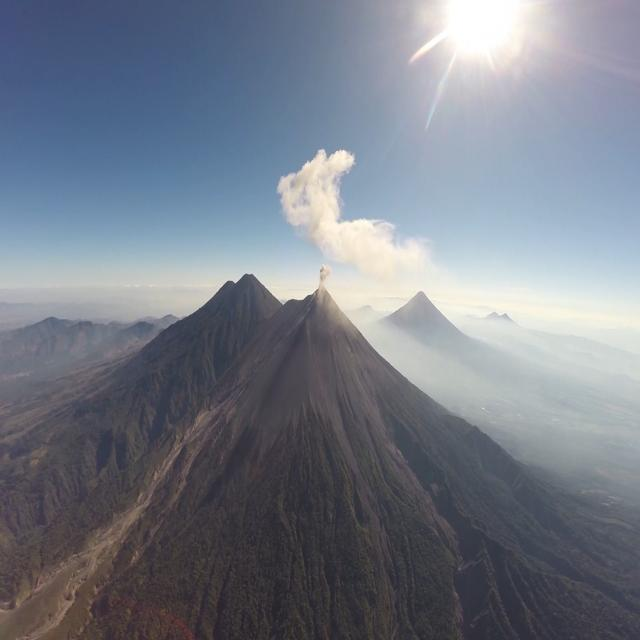Plume: (278, 144, 436, 282), (316, 262, 331, 290)
Summit: (303, 286, 339, 306)
